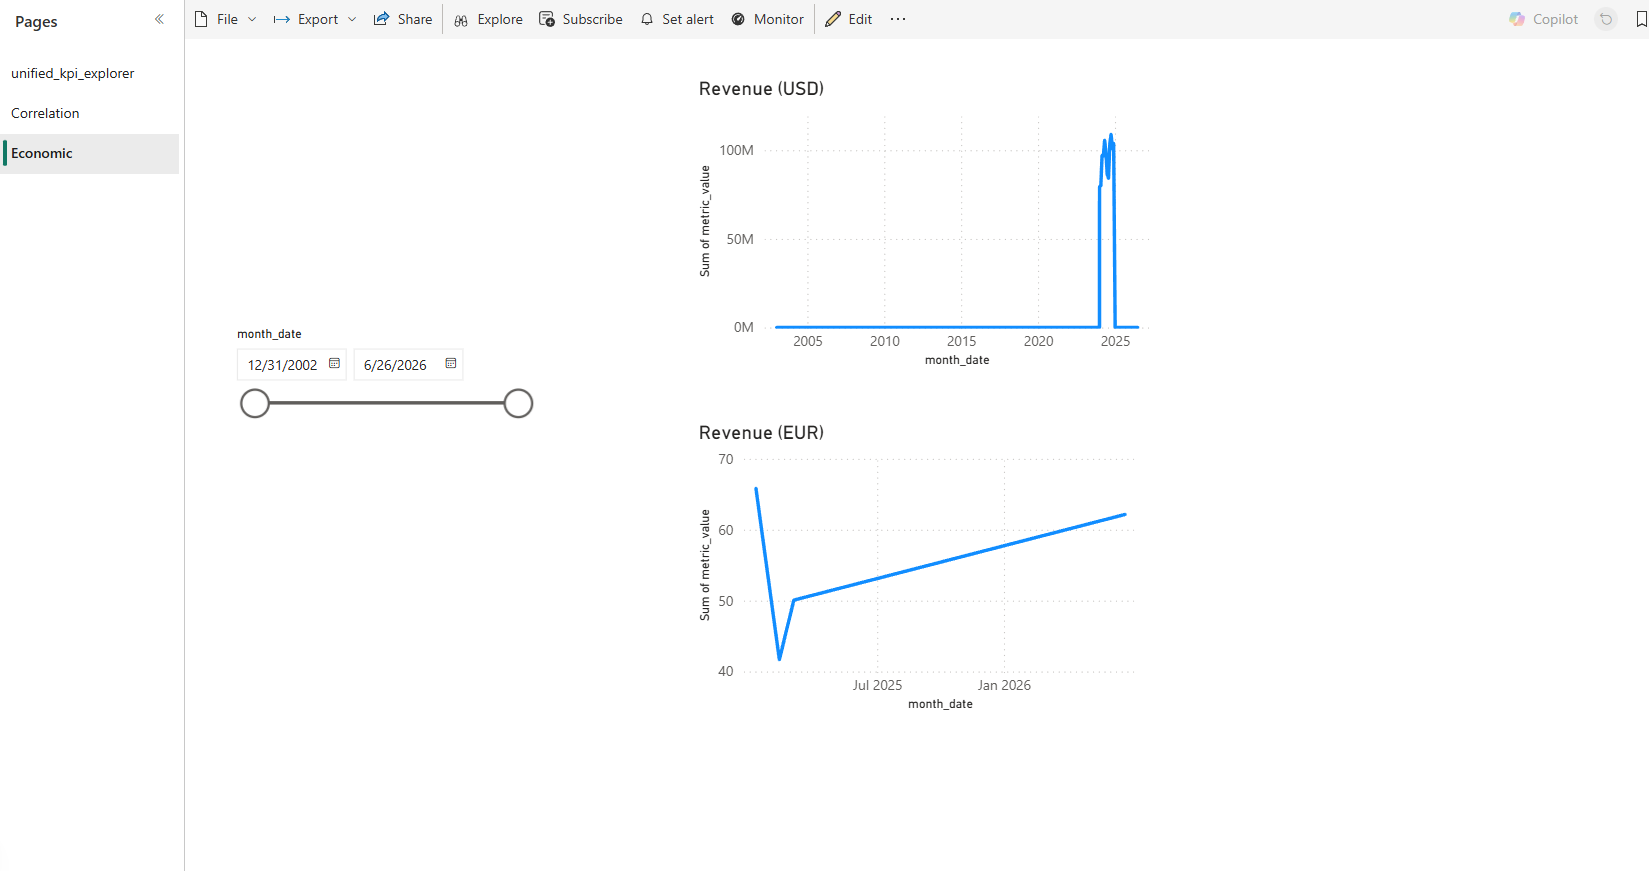

The page's visual inventory and layout, read from the dashboard file:
{"tool":"powerbi","page":{"name":"Economic","canvas":[1280,720],"ordinal":2},"visuals":[{"type":"slicer","fields":{"Values":["vw_UnifiedMonthly_Long_Complete.month_date"]},"box":[32.2,246.4,279.7,113.3],"z":0},{"type":"lineChart","title":"Revenue (USD)","fields":{"Category":["vw_UnifiedMonthly_Long_Complete.month_date"],"Y":["Sum(vw_UnifiedMonthly_Long_Complete.metric_value)"]},"box":[444,33.3,406.6,257.9],"z":1000},{"type":"lineChart","title":"Revenue (EUR)","fields":{"Category":["vw_UnifiedMonthly_Long_Complete.month_date"],"Y":["Sum(vw_UnifiedMonthly_Long_Complete.metric_value)"]},"box":[444,333.8,406.6,257.9],"z":2000}]}

Visuals, with their boxes on the page's 1280x720 design canvas (x1, y1, x2, y2). These are canvas units, not pixel positions in the 1649x871 screenshot, which may show the page scaled, cropped or inside an application window:
slicer - vw_UnifiedMonthly_Long_Complete.month_date: [x1=32, y1=246, x2=312, y2=360]
"Revenue (USD)" lineChart: [x1=444, y1=33, x2=851, y2=291]
"Revenue (EUR)" lineChart: [x1=444, y1=334, x2=851, y2=592]
